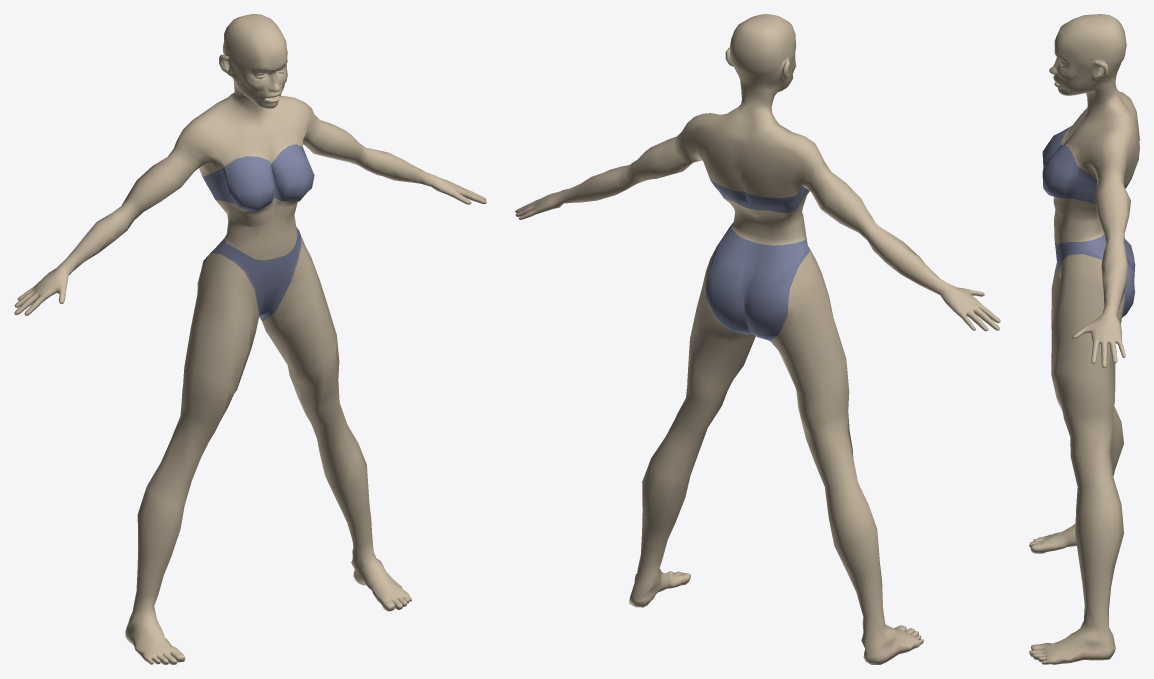
Rendered from HeroineBase_FBX.fbx.
3 views of the same model, side by side, from view 1: azimuth 30°, elevation 25°; view 2: azimuth 150°, elevation 25°; view 3: azimuth 270°, elevation 25° (orthographic). The views are drawn at different scales.
Visible parts, largest first — view 1: Heroine_Mesh; view 2: Heroine_Mesh; view 3: Heroine_Mesh.
Boxes of the visible parts, bbox=[...] form: Heroine_Mesh: bbox=[14, 14, 486, 664]; Heroine_Mesh: bbox=[515, 14, 1000, 664]; Heroine_Mesh: bbox=[1029, 14, 1139, 664].
Bounding box in the file's own units: 29.28 × 35.33 × 6.07.
